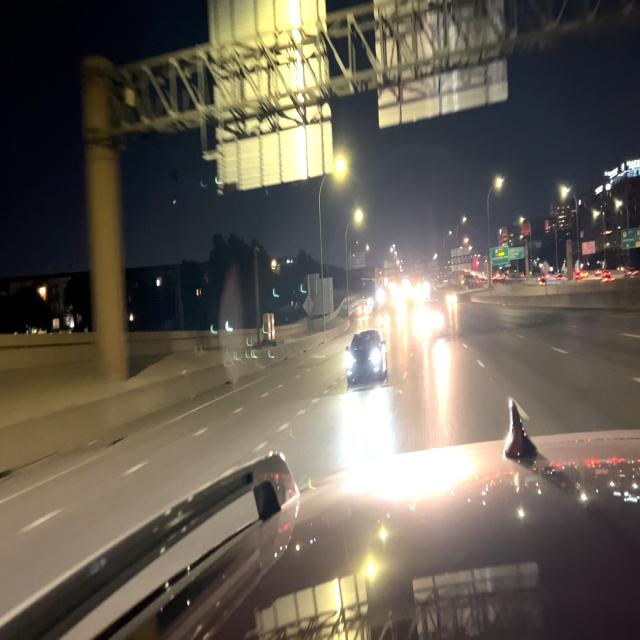back-of-sign: (207, 0, 334, 193), (371, 0, 511, 129), (305, 272, 336, 320), (450, 245, 473, 272)
